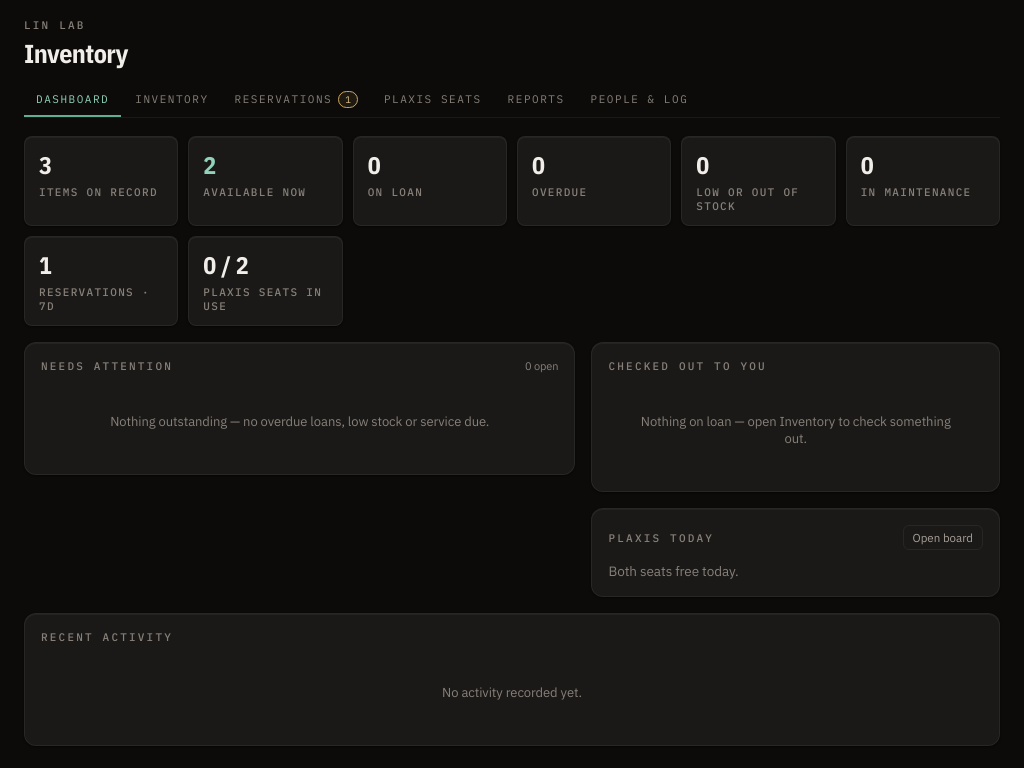
Test: reservations list scoping › picking an item filters the list and enables New reservation
This screenshot has width=1024, height=768.
Click the tab "Reservations1" at (296, 100), box [222,84,370,117]
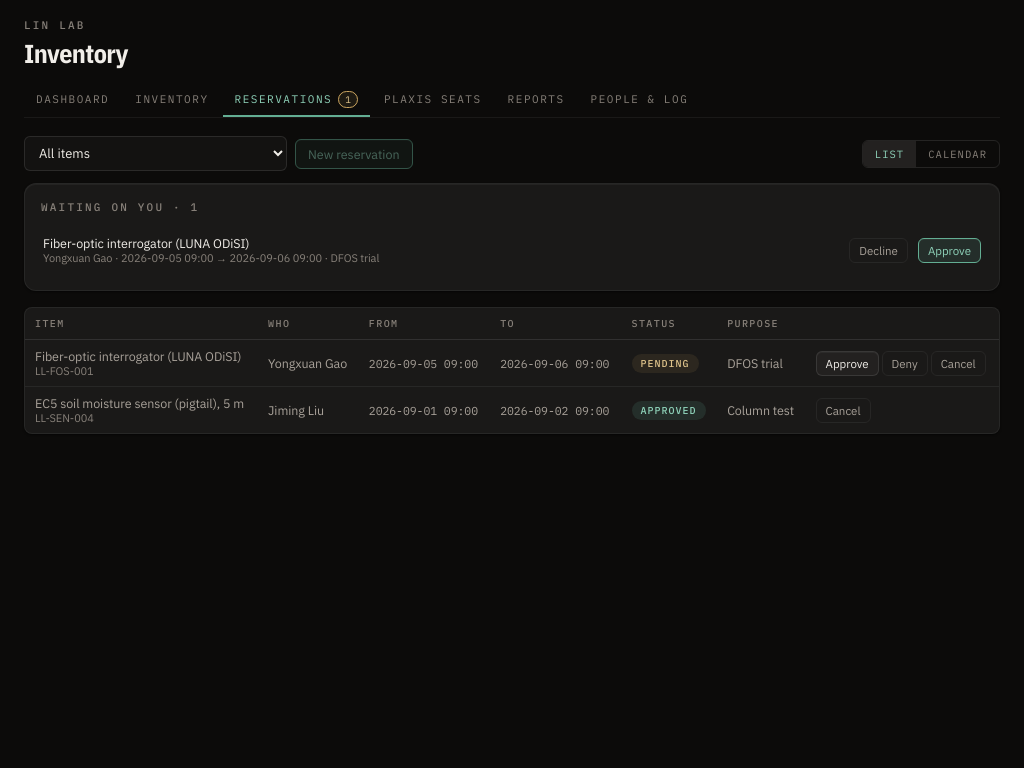
Select "EC5 soil moisture sensor (pigtail), 5 m" in the dropdown named "Item" at (156, 154), box [24,136,287,171]
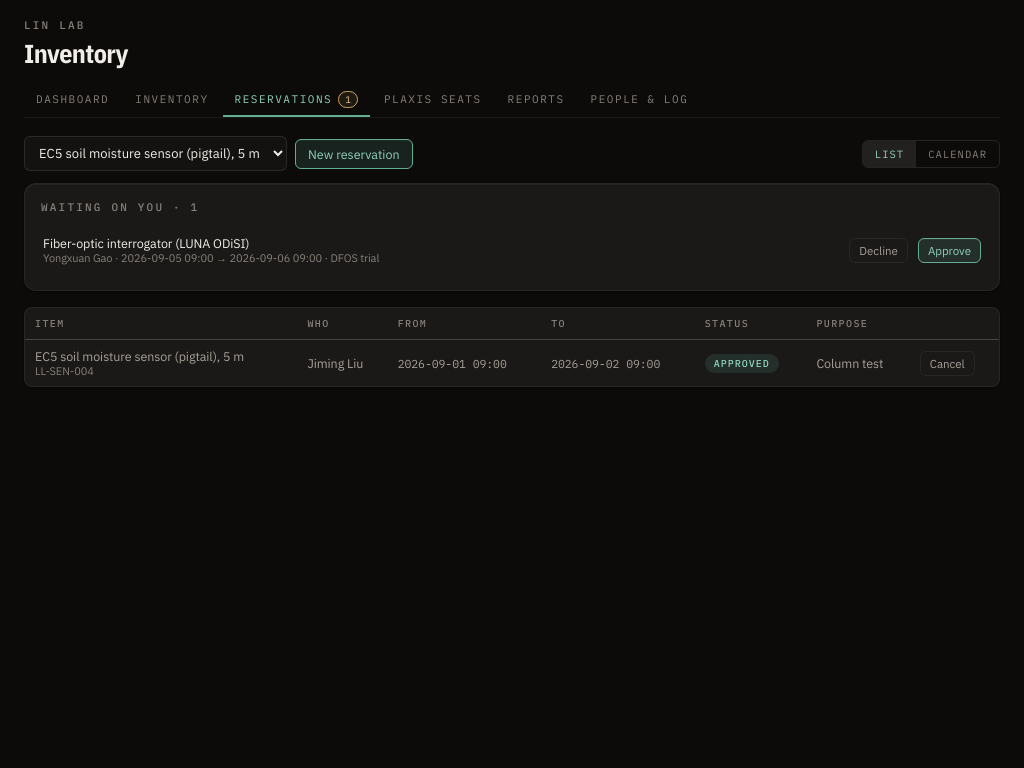
Expected: the text "Jiming Liu" is shown, [297,340,388,386]
Expected: the table "Purpose" shows "Column test", [816,355,883,371]
Expected: the button "New reservation" is enabled, [295,138,413,168]
